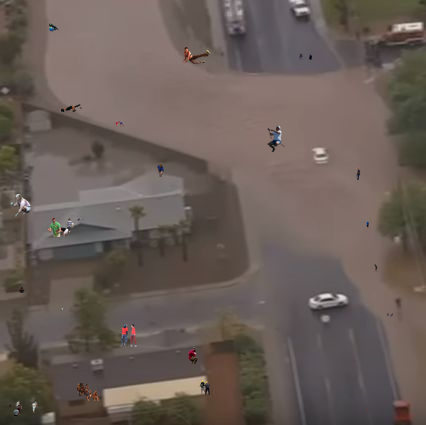Human: (47, 218, 74, 237), (120, 324, 142, 347), (267, 125, 285, 153), (71, 383, 99, 401), (182, 47, 211, 64), (10, 194, 31, 217), (9, 400, 38, 416), (374, 264, 387, 278), (199, 380, 211, 395), (188, 347, 198, 364), (61, 104, 82, 112), (355, 165, 365, 180), (299, 52, 312, 60), (157, 163, 164, 177), (49, 23, 59, 32), (112, 121, 124, 127), (19, 287, 25, 293), (387, 313, 393, 317), (366, 220, 369, 228), (77, 218, 84, 221), (60, 308, 63, 311), (367, 409, 368, 413)
